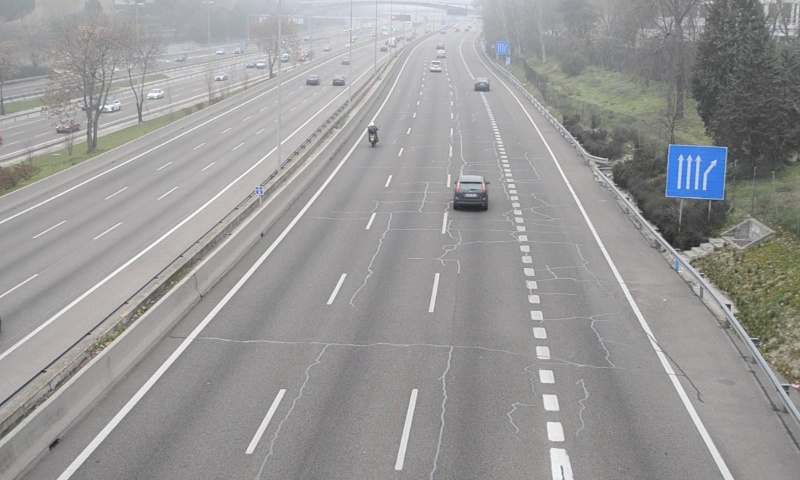car: (452, 174, 488, 210), (474, 78, 489, 92), (430, 60, 442, 73)
motorcycle: (365, 123, 379, 150)
